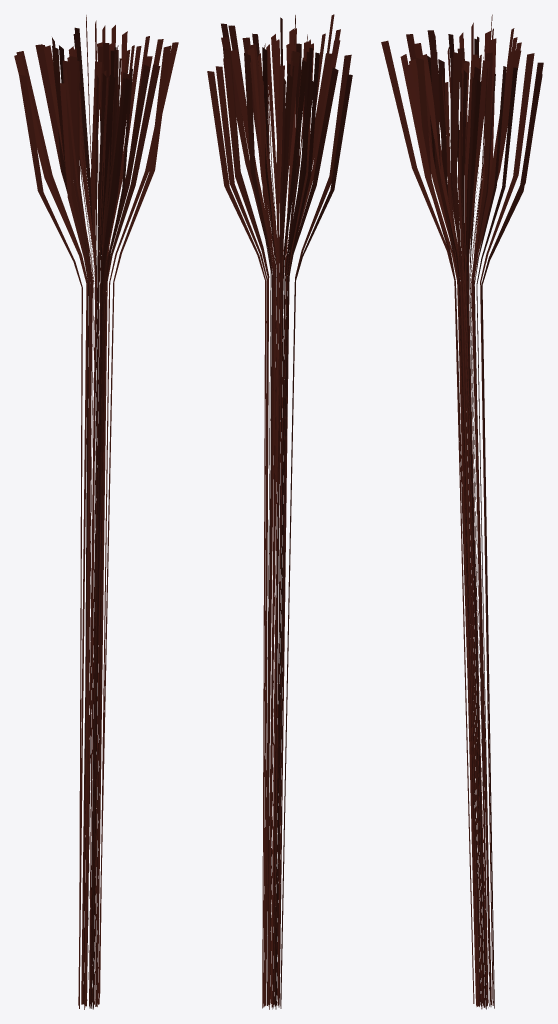
The model's file is KrampusStick.fbx.
The picture shows the model from 3 angles, left to right: view 1: azimuth 30°, elevation 25°; view 2: azimuth 150°, elevation 25°; view 3: azimuth 270°, elevation 25°; orthographic projection.
Visible parts, largest first — view 1: BézierCurve.004; view 2: BézierCurve.004; view 3: BézierCurve.004.
Part boxes in pixels (<box>): BézierCurve.004: <box>14,15,178,1009</box>; BézierCurve.004: <box>207,14,352,1009</box>; BézierCurve.004: <box>381,14,543,1009</box>.
Size of the model in its own units: 32.49 by 205 by 31.45.
